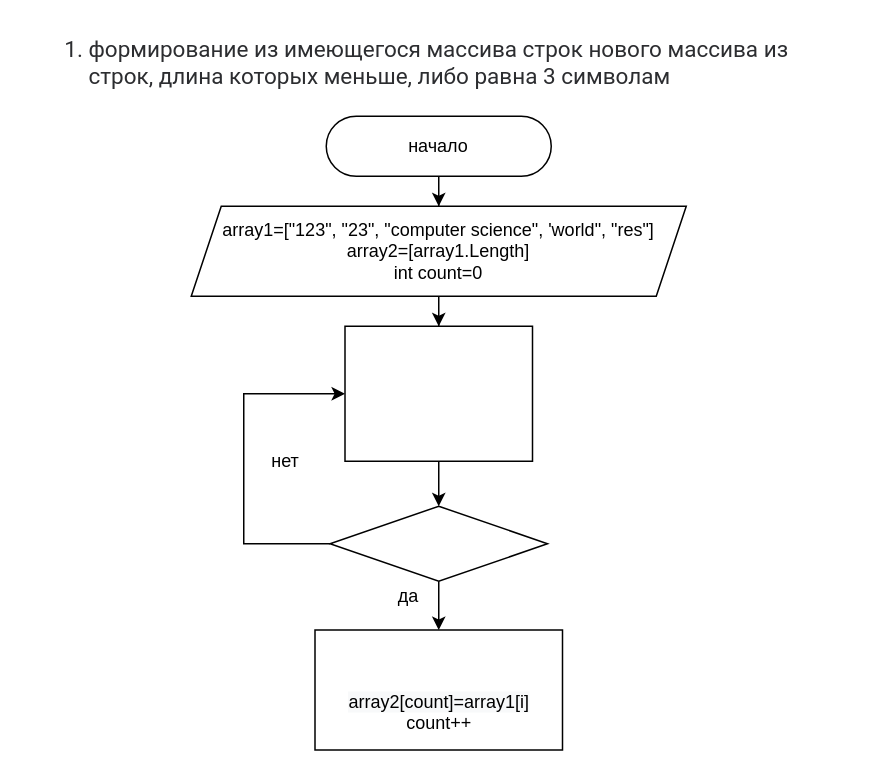
This 876x776 diagram has some shape labels left out. Each missing label, with the box of its shape:
array1[i].Length<=3: (328, 505, 548, 581)
for (int i=0: i<array1.Length: i++): (344, 325, 532, 461)
